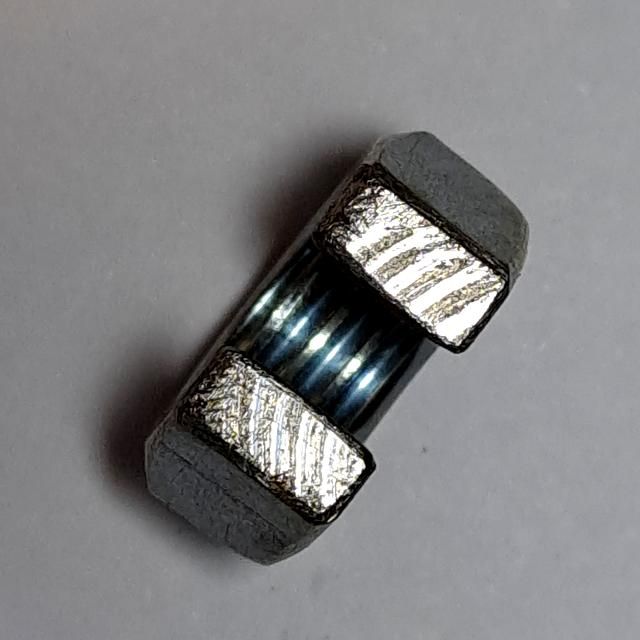Side-Fracture: (130, 109, 539, 580)
